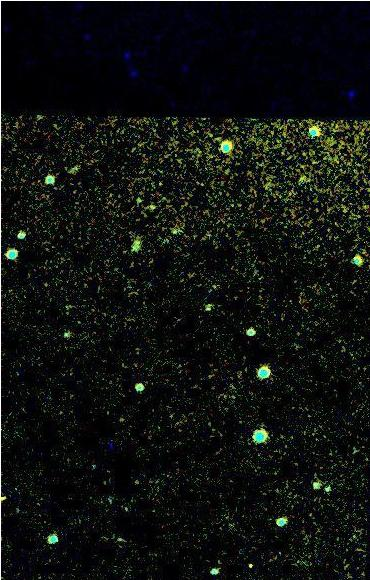star: (235, 549, 265, 579)
